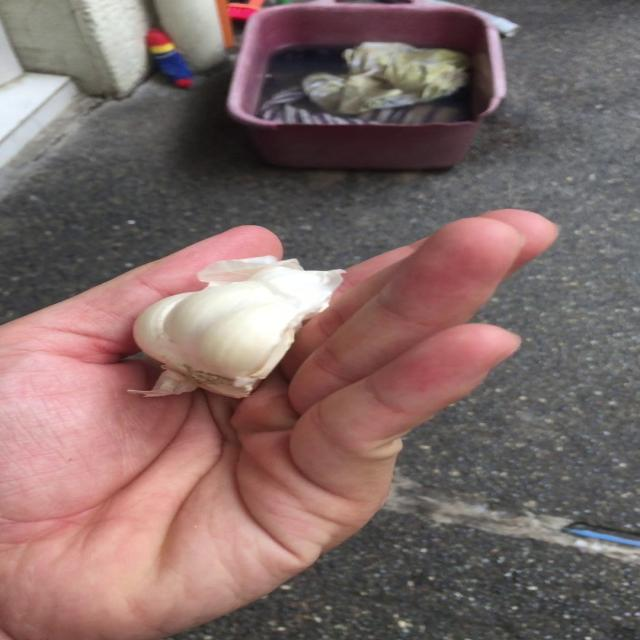garlic: (127, 254, 350, 400)
